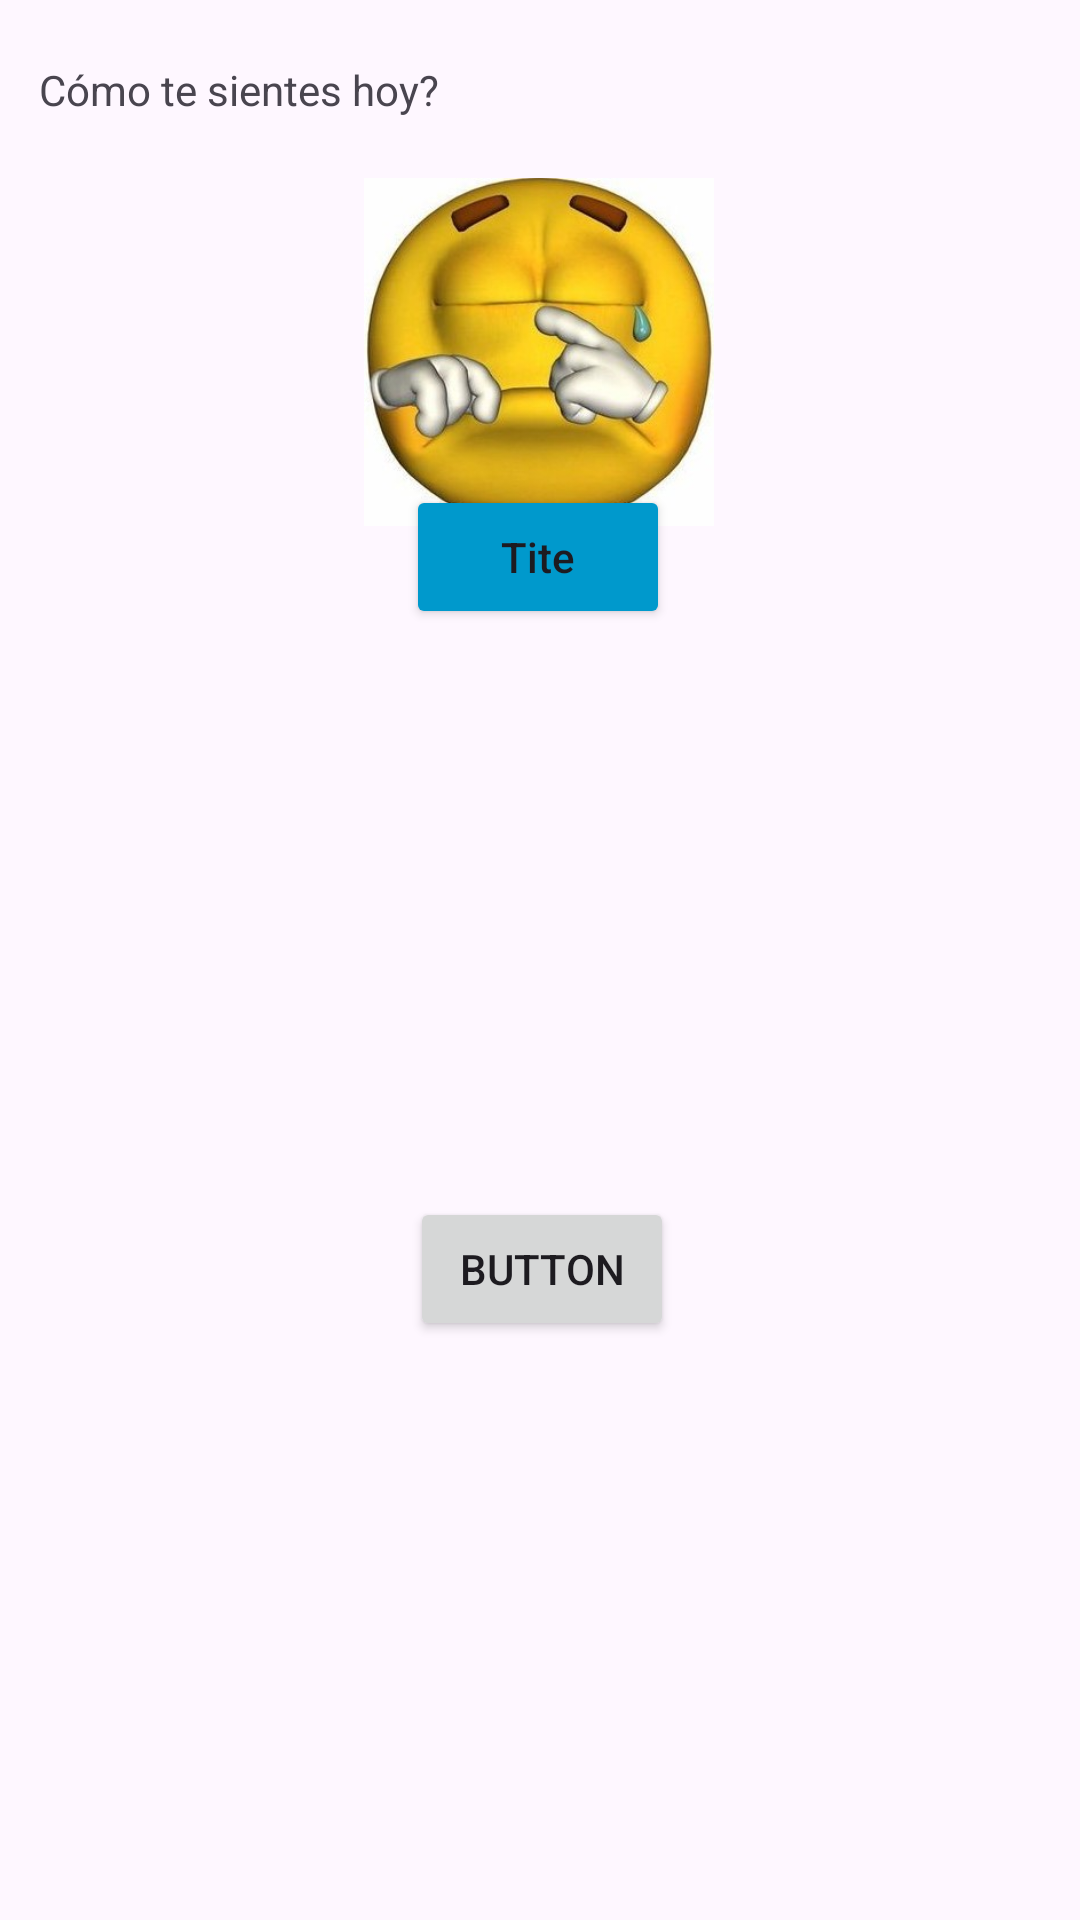

Screen size 1080px x 1920px. Icon name, then its box in pixels as (x1, y1, x2, y2):
carallorando: (366, 178, 713, 526)
